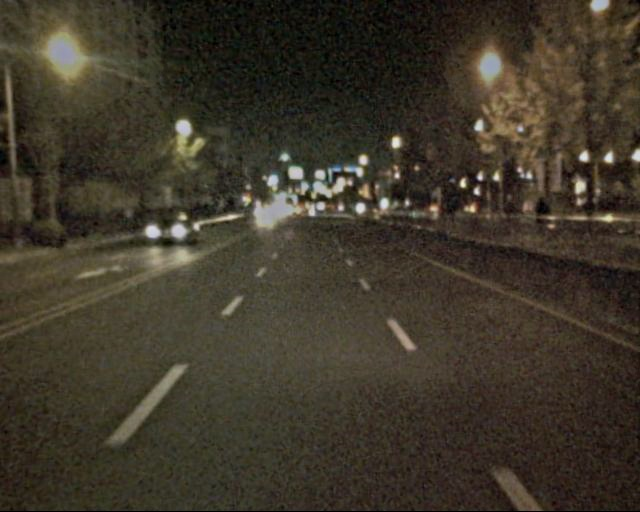person: (498, 190, 522, 242), (529, 194, 551, 248)
